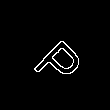P_NE: (27, 26, 89, 89)
